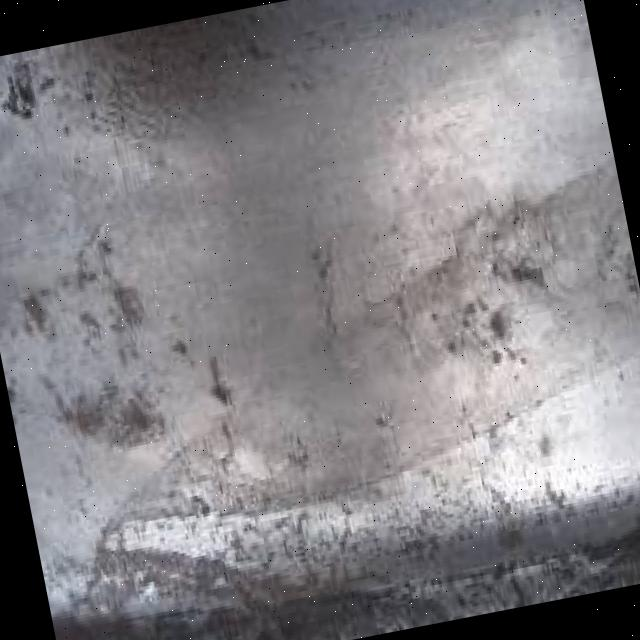Peeling: (48, 368, 170, 462), (1, 65, 48, 129), (111, 280, 153, 337), (205, 353, 237, 415), (22, 293, 59, 343), (502, 260, 546, 300), (487, 308, 518, 347)
